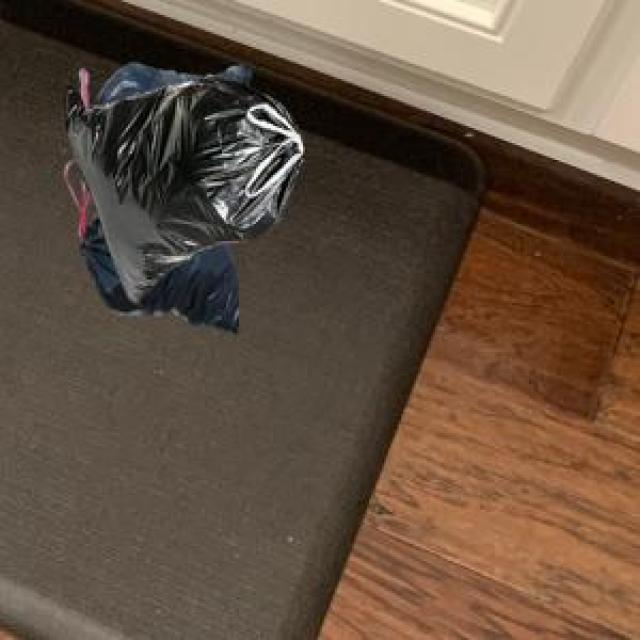waste: (65, 62, 304, 332)
